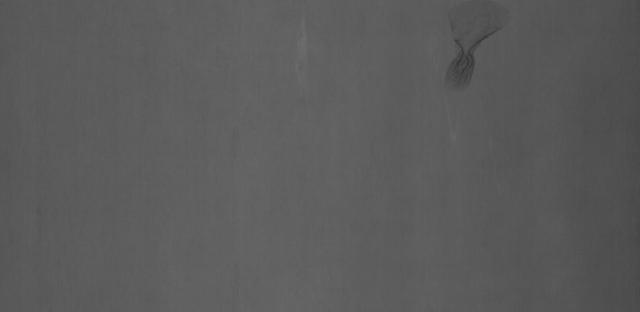water_spot: (436, 5, 512, 96)
